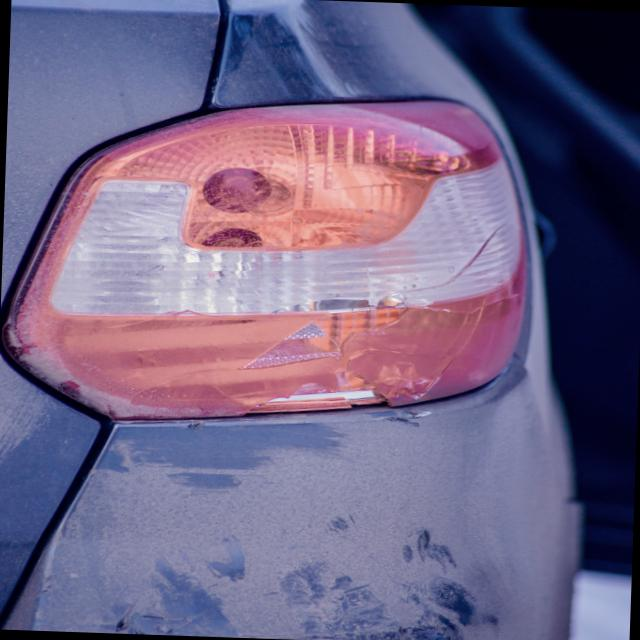Phare abime: (224, 218, 508, 432)
